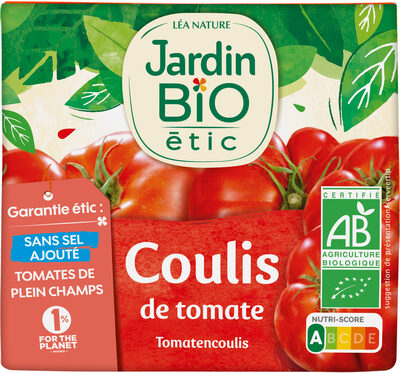Coulis de tomate bio: (20, 19, 380, 354)
